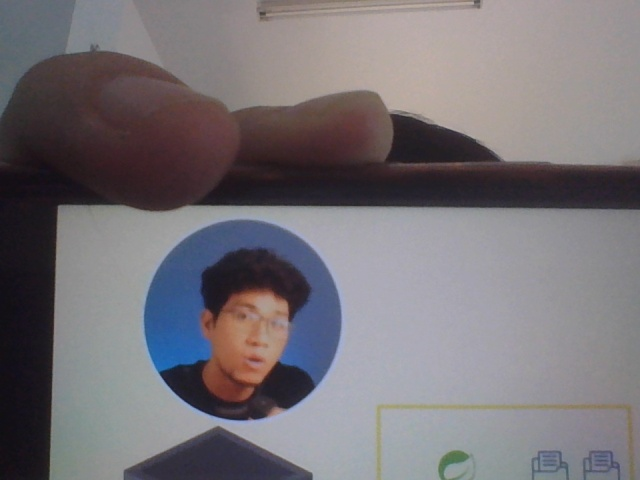fake: (192, 249, 303, 407)
